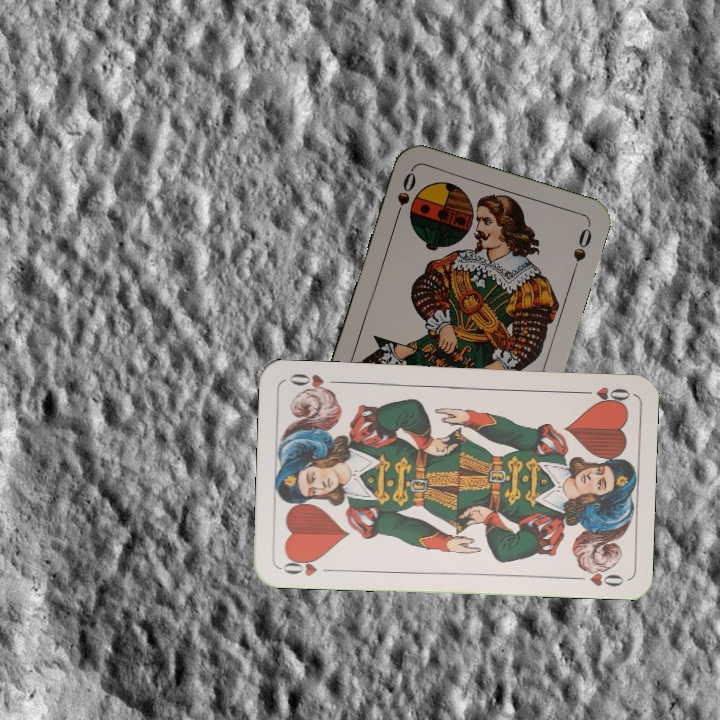HO: (277, 553, 336, 579), (573, 382, 633, 405)
SO: (390, 167, 419, 225)
